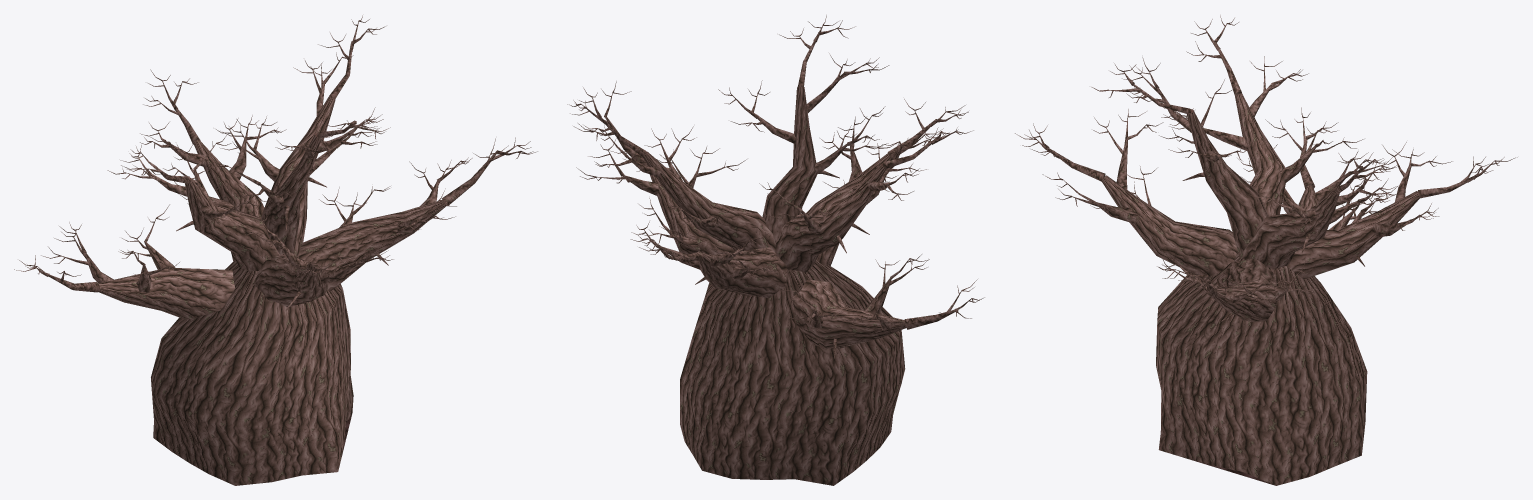
Rendered from Baoba_03_Digitata_Anciao_Seco.glb.
3 views of the same model, side by side, from view 1: azimuth 30°, elevation 25°; view 2: azimuth 150°, elevation 25°; view 3: azimuth 270°, elevation 25° (orthographic). The views are drawn at different scales.
Parts seen in each view (by area): view 1: Tronco, Bracos principais, Ramos secundarios, Ponteiras, Ramos finos; view 2: Tronco, Bracos principais, Ramos secundarios, Ponteiras, Ramos finos; view 3: Tronco, Bracos principais, Ramos secundarios, Ponteiras, Ramos finos.
Part boxes in pixels (x1,y1,x2,y2): Tronco: (151,255,353,485); Bracos principais: (98,96,446,319); Ramos secundarios: (54,43,496,292); Ponteiras: (14,15,537,277); Ramos finos: (36,21,519,282); Tronco: (680,260,905,485); Bracos principais: (642,87,906,348); Ramos secundarios: (600,33,955,331); Ponteiras: (567,15,984,327); Ramos finos: (581,25,970,323); Tronco: (1156,252,1367,485); Bracos principais: (1101,93,1420,321); Ramos secundarios: (1047,42,1467,303); Ponteiras: (1015,15,1517,306); Ramos finos: (1036,23,1494,300).
Bounding box in the file's own units: 18.23 × 13.87 × 16.85.
1 material, 1 textured.
